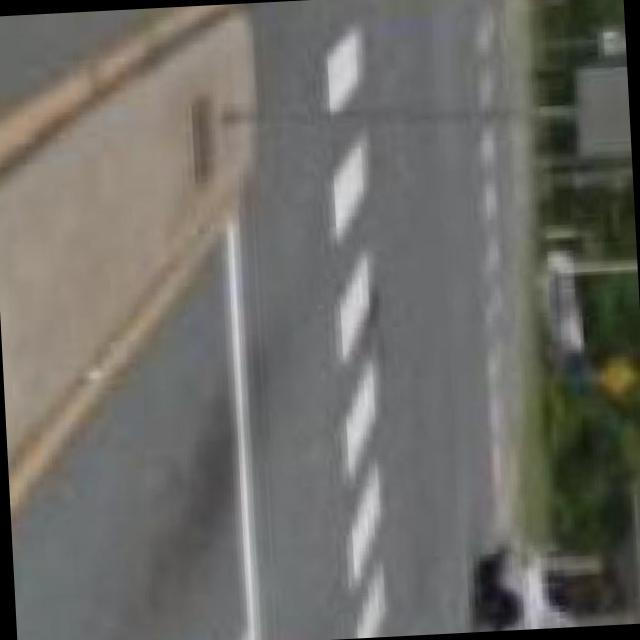zebra: (291, 0, 407, 640)
